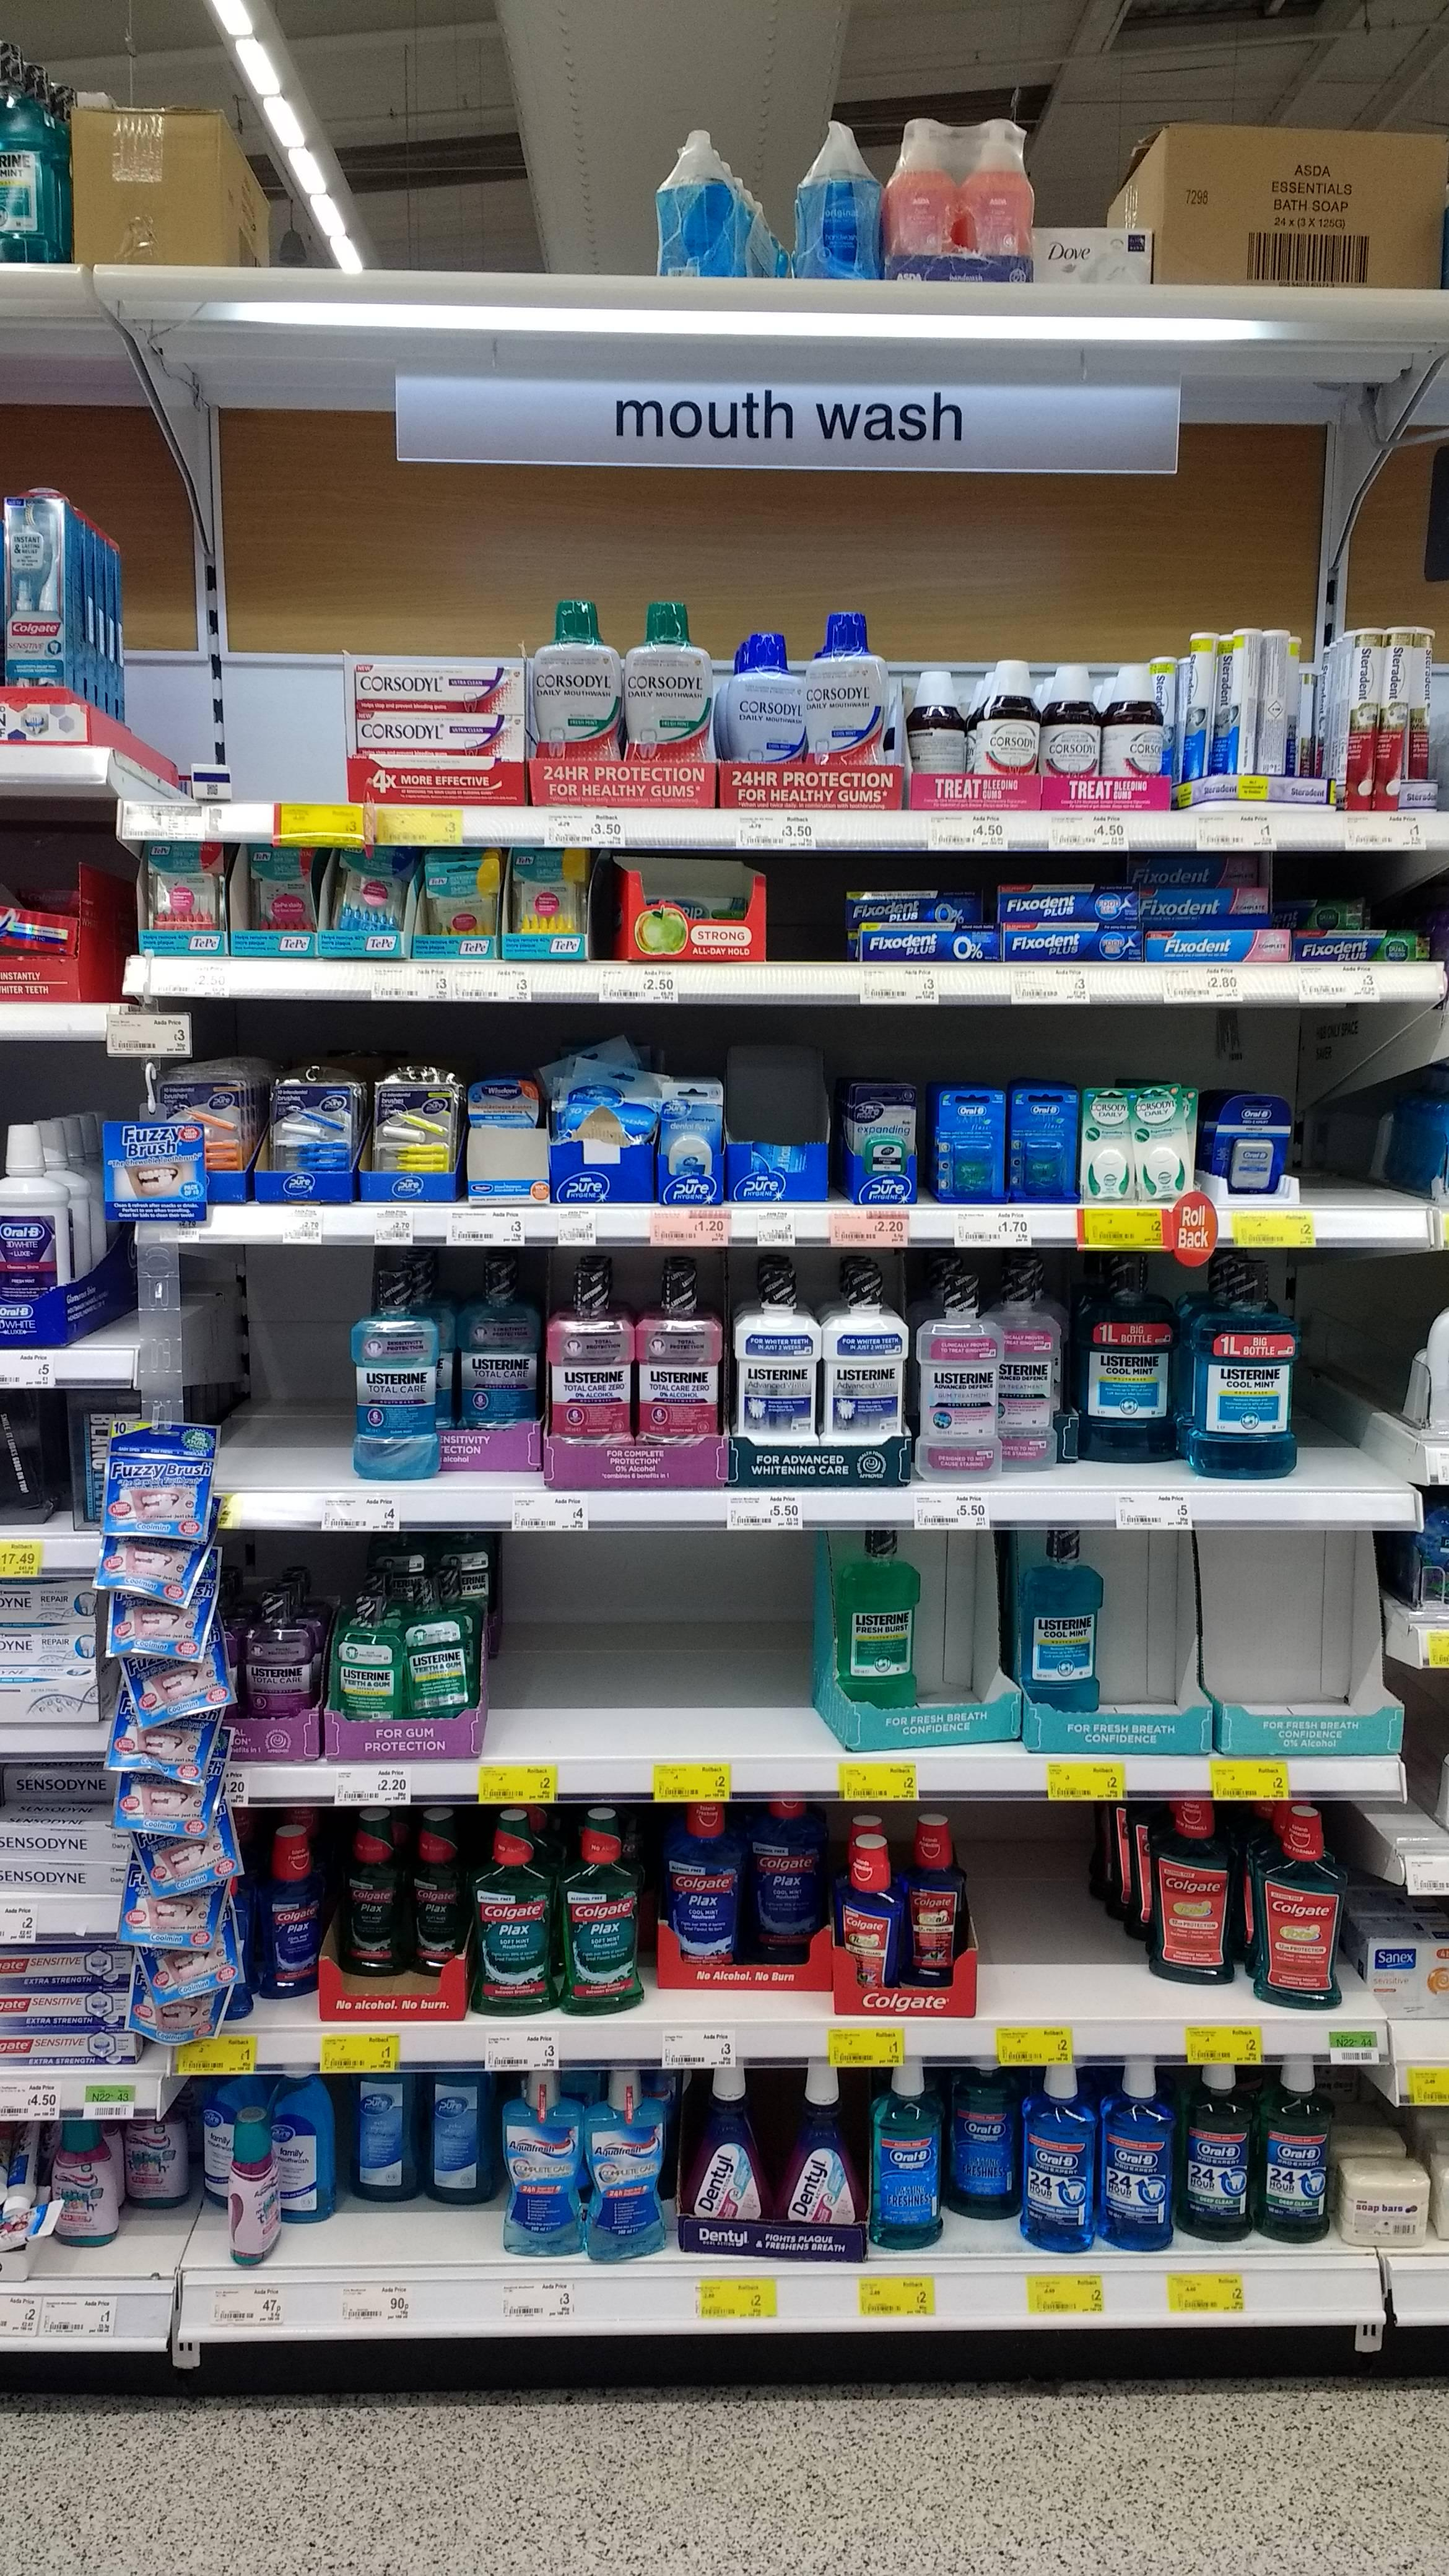empty: (977, 1821, 1118, 2022), (212, 1276, 357, 1470), (177, 623, 333, 793), (481, 1550, 600, 1760), (596, 1548, 715, 1759), (706, 1550, 823, 1759), (1228, 1548, 1315, 1718), (1302, 1320, 1389, 1490), (1299, 1031, 1385, 1201), (1102, 1545, 1187, 1713)
